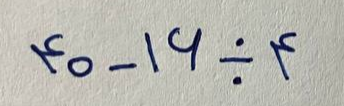character: (219, 38, 254, 86), (167, 27, 204, 72), (31, 33, 67, 74), (269, 32, 298, 80), (143, 30, 159, 74), (67, 55, 93, 77), (110, 62, 137, 73)
